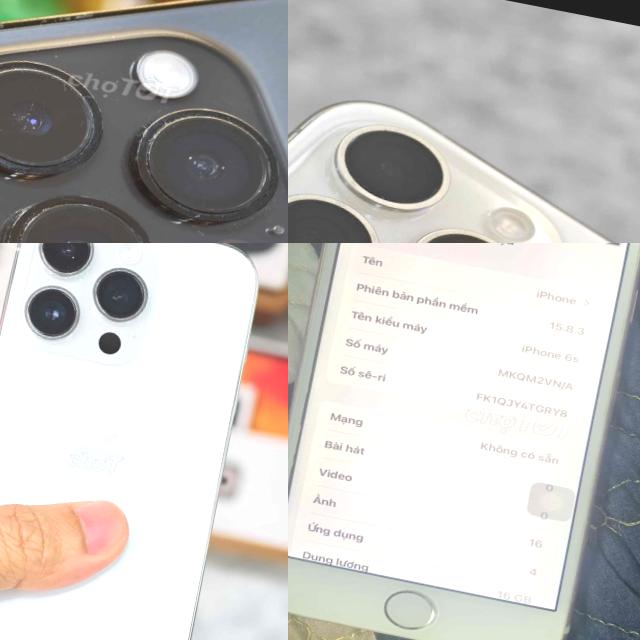gen_14: (0, 243, 277, 640), (0, 0, 288, 243)
gen_15: (288, 51, 640, 243)
gen_6: (288, 243, 640, 640)
